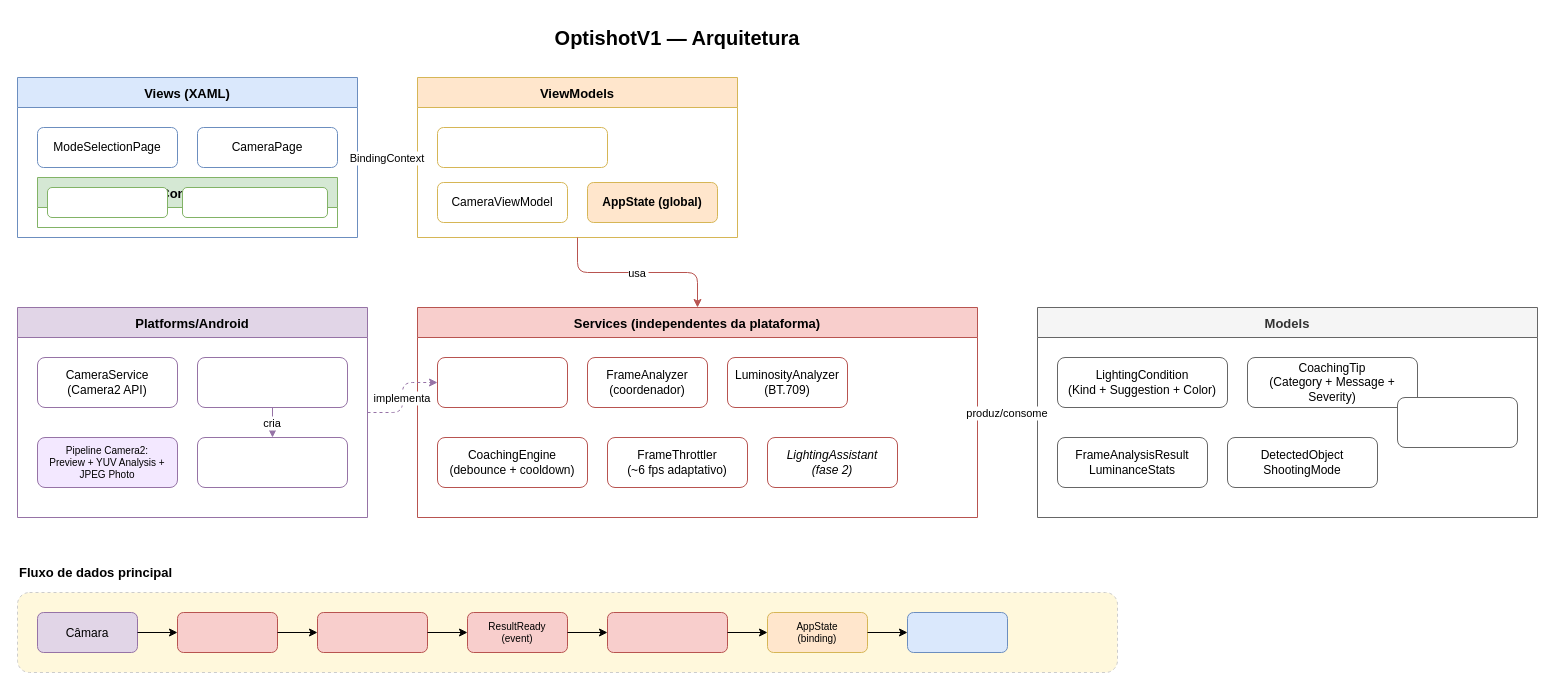
Some shapes in this 1555 by 690 pixel diagram are drawn without their labels. The centre of each missing label's shape, as x and y in pixels:
"AspectSurfaceView (aspect ratio 4:3)" goes at pixel 272 462.
"CameraPreviewHandler (MAUI → SurfaceView)" goes at pixel 272 382.
"CameraPreviewView" goes at pixel 107 202.
"CoachingEngine" goes at pixel 667 632.
"Constants (thresholds configuráveis)" goes at pixel 1457 422.
"FrameAnalyzer" goes at pixel 372 632.
"FrameReady (event)" goes at pixel 227 632.
"LightingOverlay ClutterOverlay CoachingOverlay ModeSelector" goes at pixel 255 202.
"ModeSelectionViewModel" goes at pixel 522 147.
"Overlays (UI)" goes at pixel 957 632.
"«interface» ICameraService" goes at pixel 502 382.
